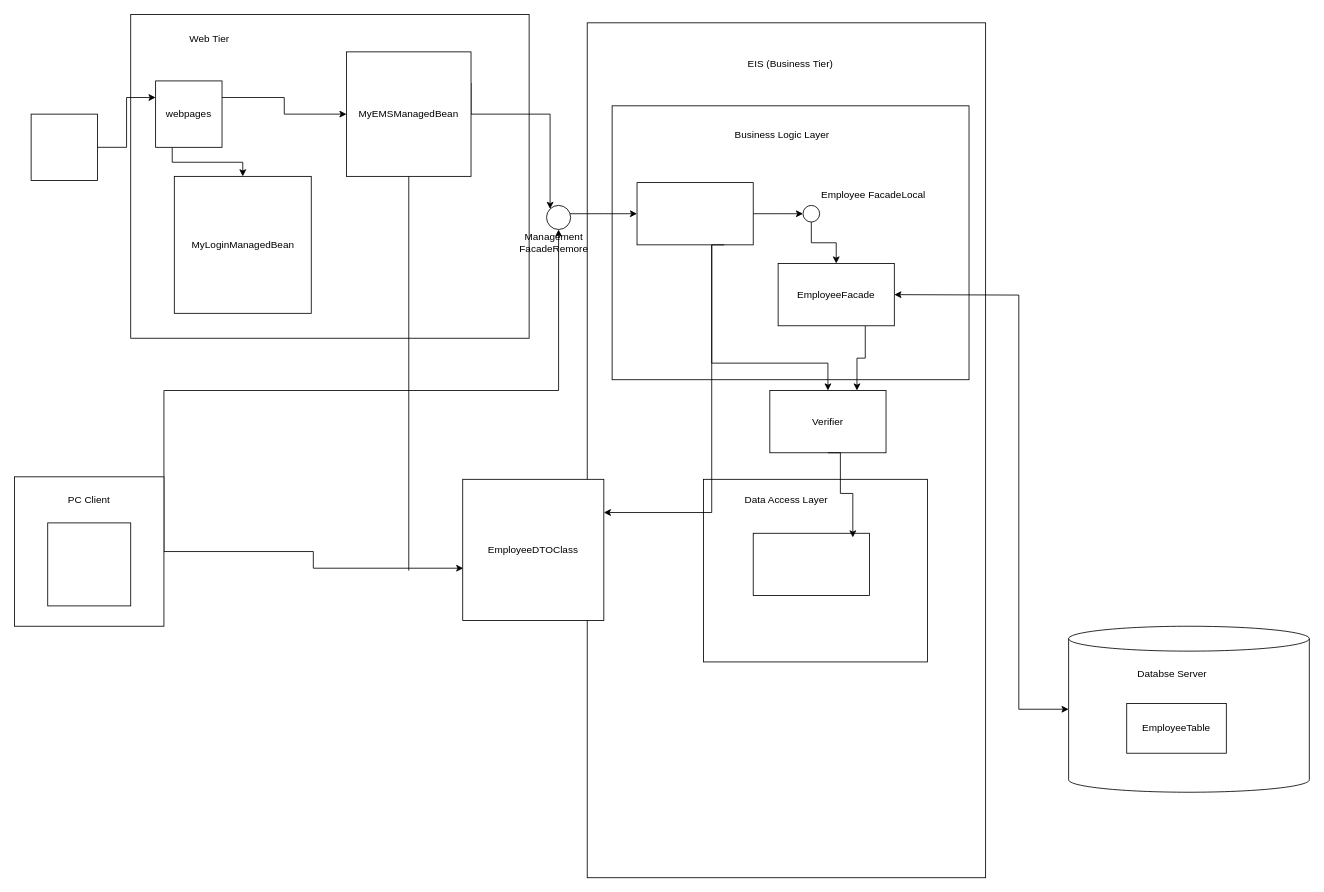
This 1324x892 diagram has some shape labels left out. The centre of each missing label's shape, as x and y in pixels:
EmployeeEntityClass: (x=810, y=564)
EMSAppClient: (x=89, y=564)
ManagementFacade: (x=694, y=213)
Web Browser: (x=64, y=147)
